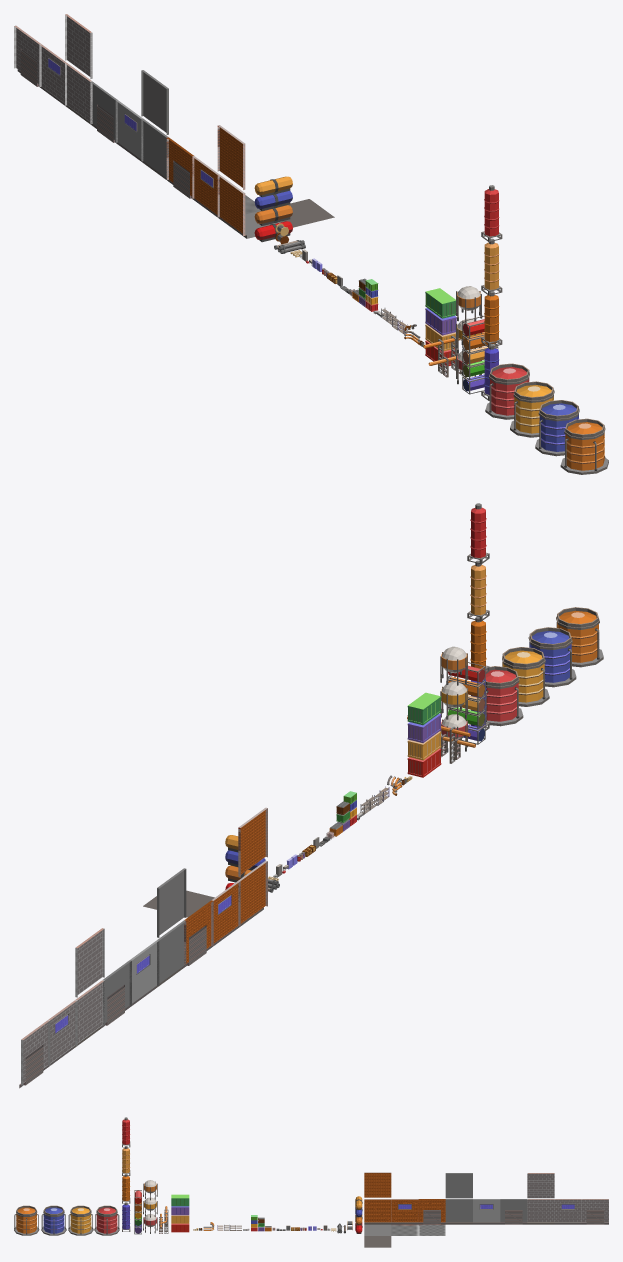
Rendered from Lowpolyindustrialpack.fbx.
3 views of the same model, one above another, from view 1: azimuth 30°, elevation 25°; view 2: azimuth 150°, elevation 25°; view 3: azimuth 270°, elevation 25° (orthographic). The views are drawn at different scales.
Visible parts, largest first — view 1: bigtank_orange, bigtank_blue, bigtank_yellow, bigtank_red, wall_brick_up, wall_bigbrick_up, wall_default_up, wall_brick_door, wall_bigbrick_door, wall_brick, wall_bigbrick, wall_default_door (+10 smaller); view 2: bigtank_orange, bigtank_blue, bigtank_red, bigtank_yellow, wall_bigbrick_up, wall_default_up, wall_brick_up, wall_bigbrick_door, wall_brick_door, wall_bigbrick, wall_default_door, wall_brick (+9 smaller); view 3: wall_bigbrick, wall_bigbrick_door, wall_bigbrick_up, wall_bigbrick_window, wall_brick, wall_brick_door, wall_brick_up, wall_brick_window, wall_default, wall_default_door, wall_default_window, wall_default_up (+16 smaller).
Part boxes in pixels (x1,y1,x2,y2): bigtank_orange: [560, 418, 608, 474]; bigtank_blue: [535, 400, 579, 456]; bigtank_yellow: [510, 381, 554, 437]; bigtank_red: [485, 363, 529, 419]; wall_brick_up: [217, 125, 245, 189]; wall_bigbrick_up: [65, 14, 92, 79]; wall_default_up: [141, 70, 168, 134]; wall_brick_door: [166, 137, 195, 201]; wall_bigbrick_door: [14, 25, 43, 89]; wall_brick: [217, 174, 246, 238]; wall_bigbrick: [65, 63, 93, 126]; wall_default_door: [90, 81, 119, 145]; bigtank_orange: [556, 607, 603, 667]; bigtank_blue: [528, 627, 576, 687]; bigtank_red: [484, 666, 523, 726]; bigtank_yellow: [502, 647, 549, 706]; wall_bigbrick_up: [75, 928, 104, 997]; wall_default_up: [157, 868, 186, 937]; wall_brick_up: [238, 807, 267, 876]; wall_bigbrick_door: [19, 1020, 50, 1088]; wall_brick_door: [182, 900, 213, 968]; wall_bigbrick: [73, 980, 104, 1048]; wall_default_door: [100, 960, 131, 1028]; wall_brick: [236, 860, 267, 928]; wall_bigbrick: [527, 1199, 554, 1224]; wall_bigbrick_door: [581, 1199, 608, 1224]; wall_bigbrick_up: [527, 1173, 554, 1198]; wall_bigbrick_window: [554, 1199, 581, 1224]; wall_brick: [364, 1199, 391, 1224]; wall_brick_door: [418, 1199, 445, 1224]; wall_brick_up: [364, 1172, 391, 1197]; wall_brick_window: [391, 1199, 418, 1224]; wall_default: [445, 1199, 472, 1224]; wall_default_door: [500, 1199, 527, 1224]; wall_default_window: [473, 1199, 500, 1224]; wall_default_up: [445, 1173, 472, 1198].
Bounding box in the file's own units: 2169 × 4586 × 21879.
Materials: 1 (1 with a texture image).
